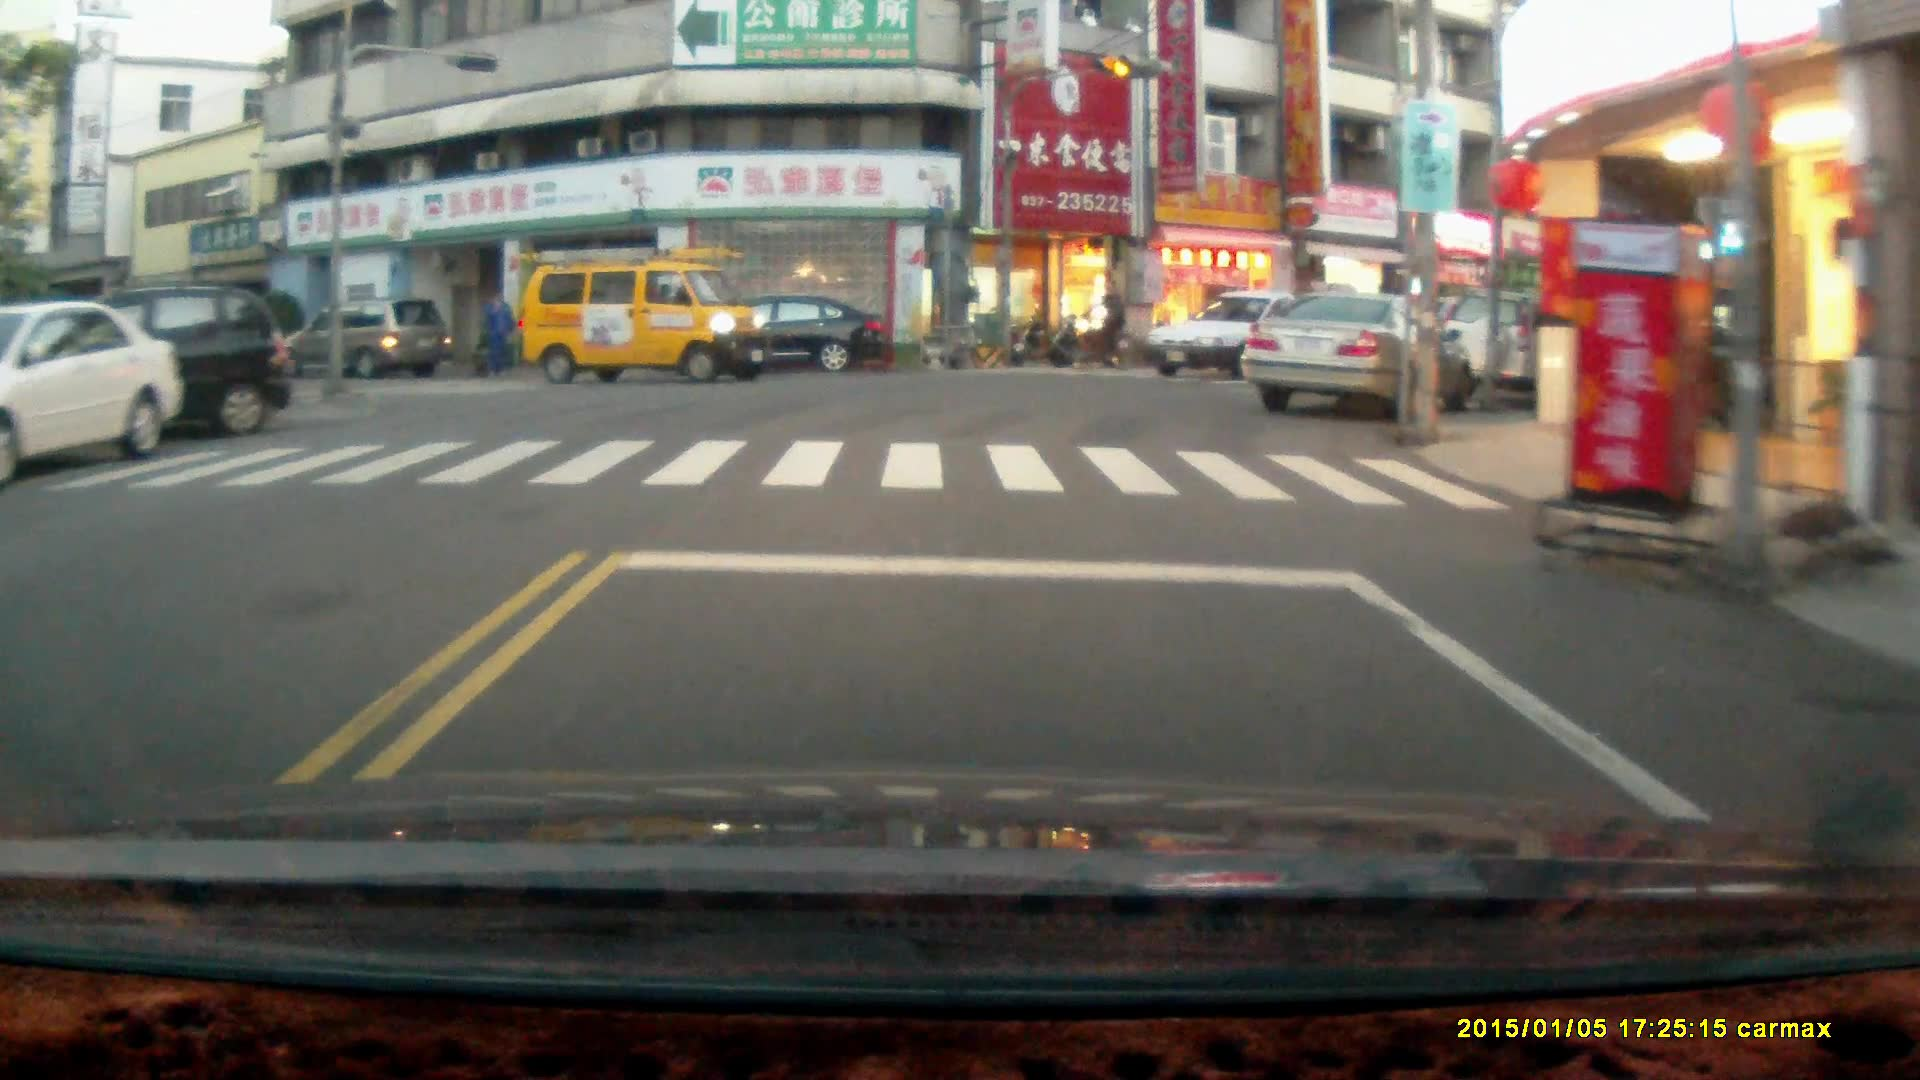pedestrian: (479, 289, 514, 374)
rider: (1062, 272, 1138, 369)
vehicle: (10, 276, 295, 443), (517, 244, 767, 385), (1, 297, 188, 475), (1239, 287, 1483, 415), (1433, 284, 1663, 406), (1138, 281, 1357, 379), (695, 288, 889, 371), (277, 296, 451, 381)
